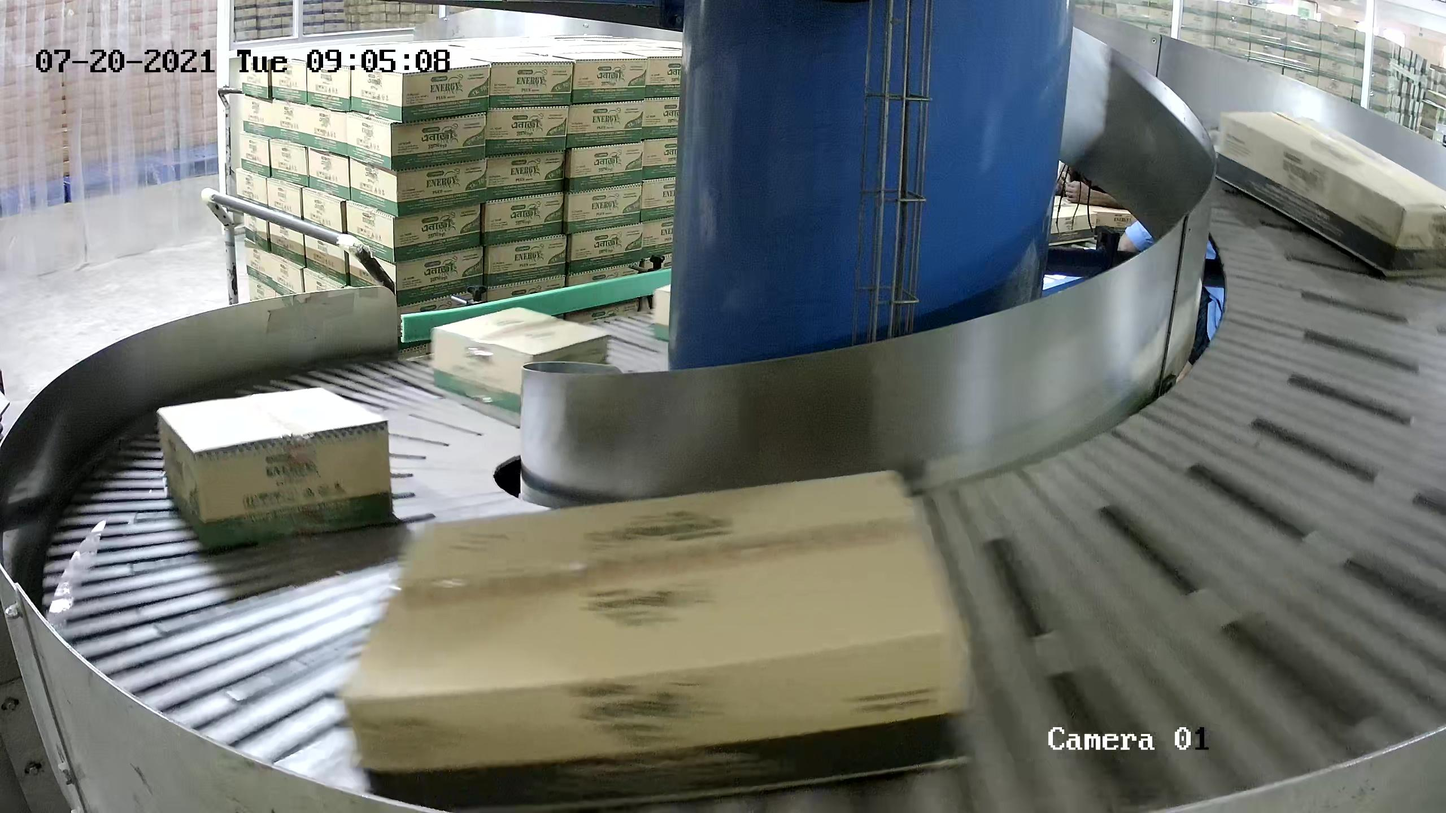Box: (337, 466, 980, 813), (156, 384, 396, 553), (1213, 109, 1446, 282), (430, 305, 610, 416), (652, 283, 672, 342)
